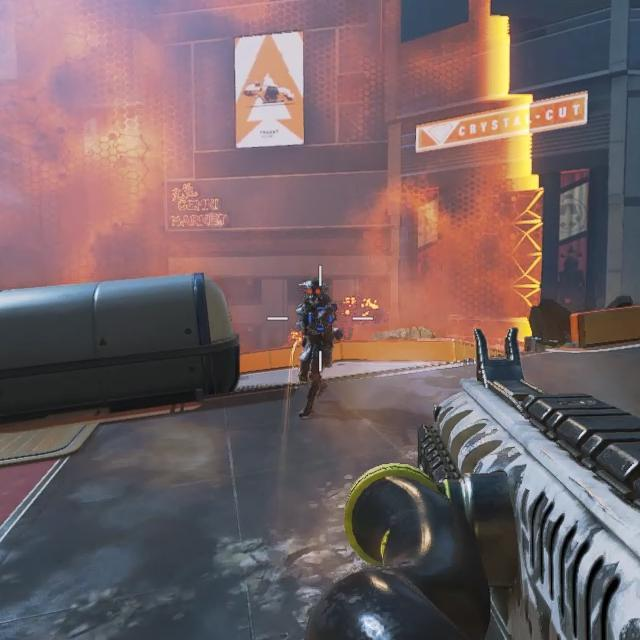avatar: (292, 277, 339, 423)
